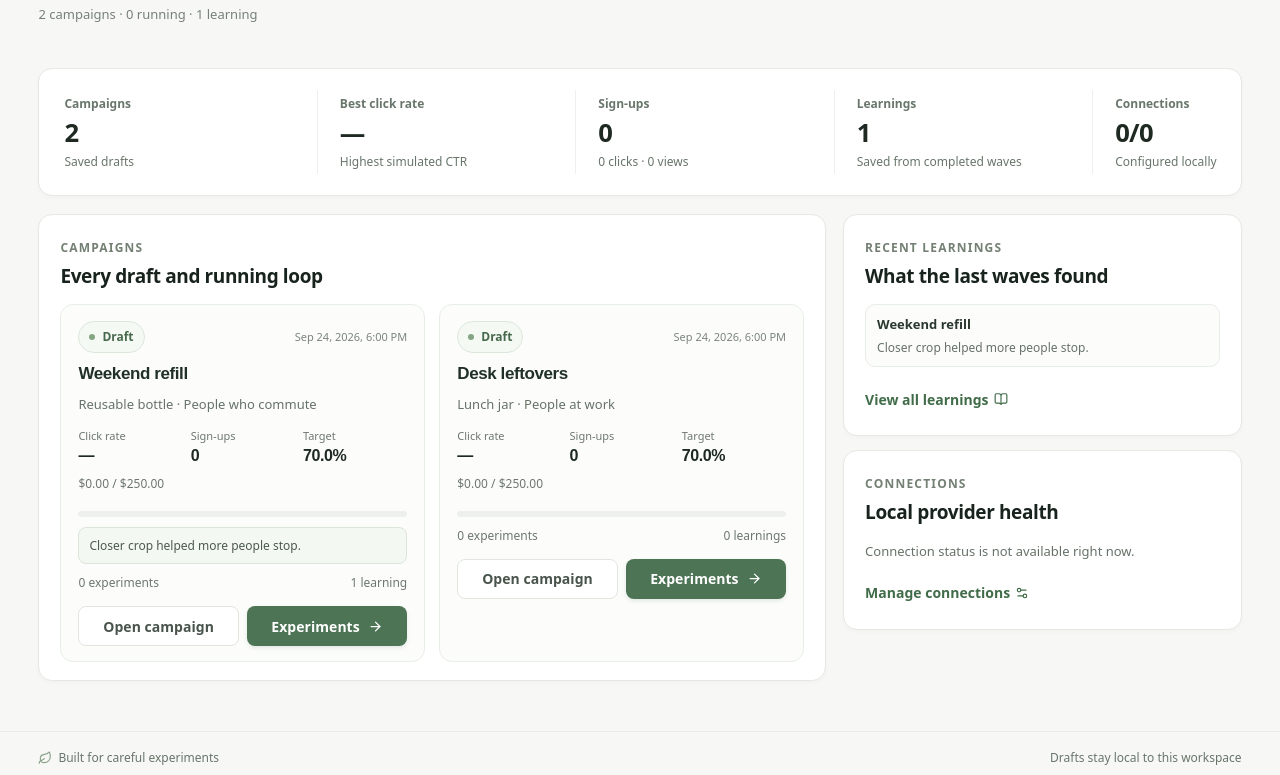
Scenario: Riff dashboard › summarizes saved campaigns on the workspace dashboard
(page scrolled)
Expected: the heading "Weekend refill" is shown, [78,364,188,384]
Expected: the heading "Desk leftovers" is shown, [457,364,568,384]
Click the button "Open campaign" below "Reusable bottle" at (159, 626), box [78,606,239,646]
(page scrolled)
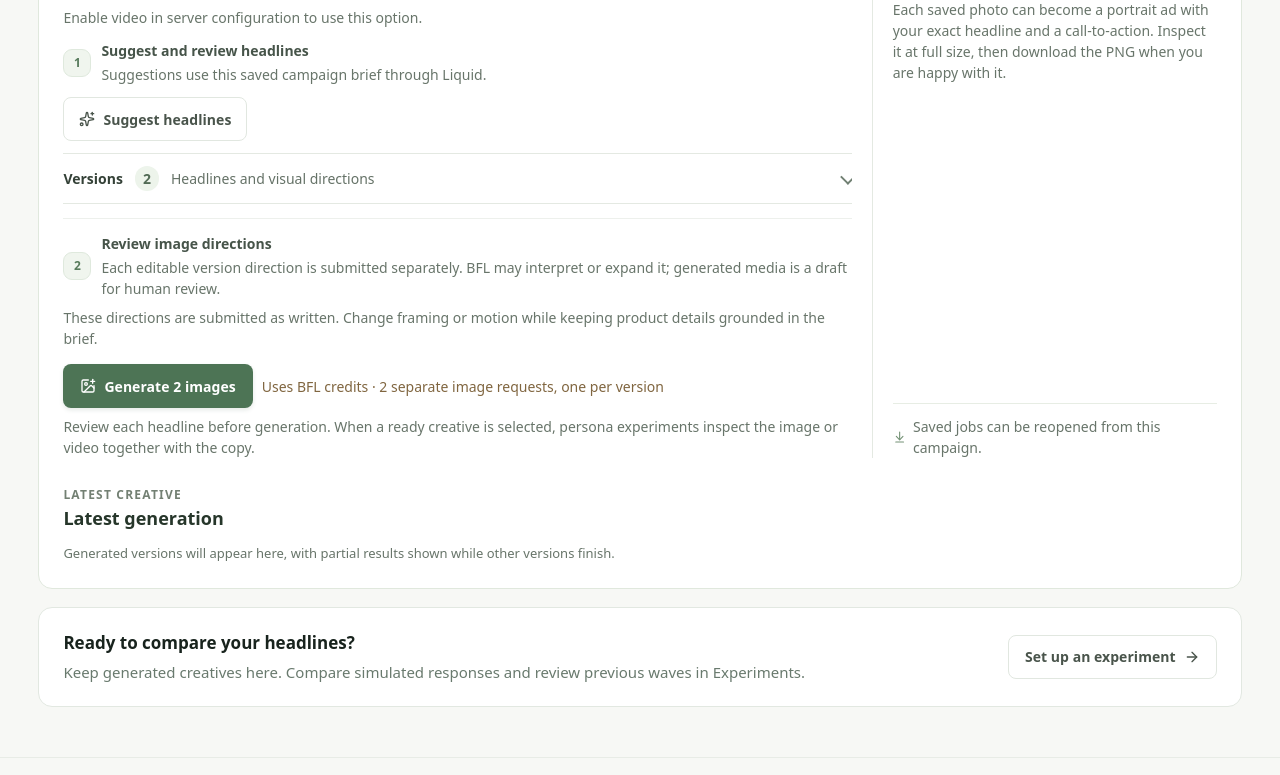
Expected: the button "Generate 2 images" is shown, [63,364,253,408]
